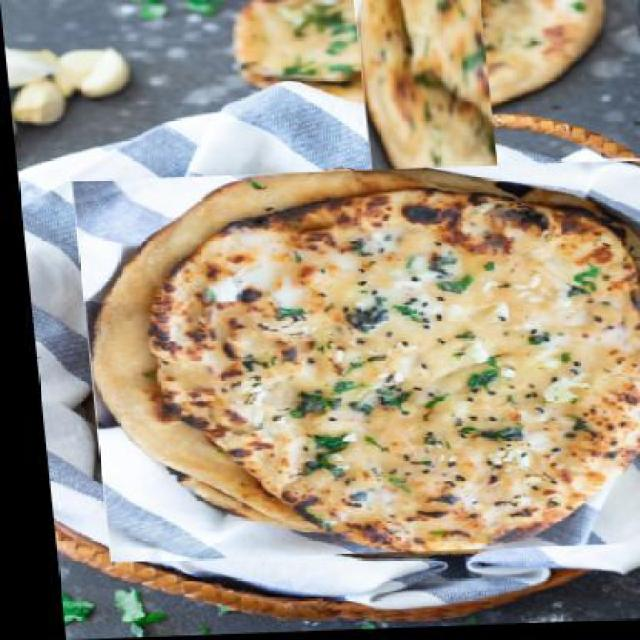chapati: (66, 162, 639, 566), (291, 0, 558, 183)
